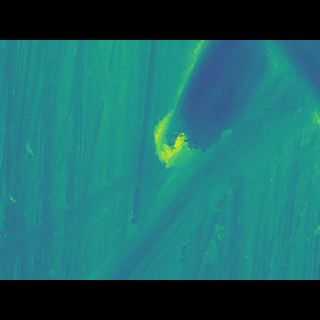Loch: (93, 69, 319, 250), (145, 121, 206, 171)
